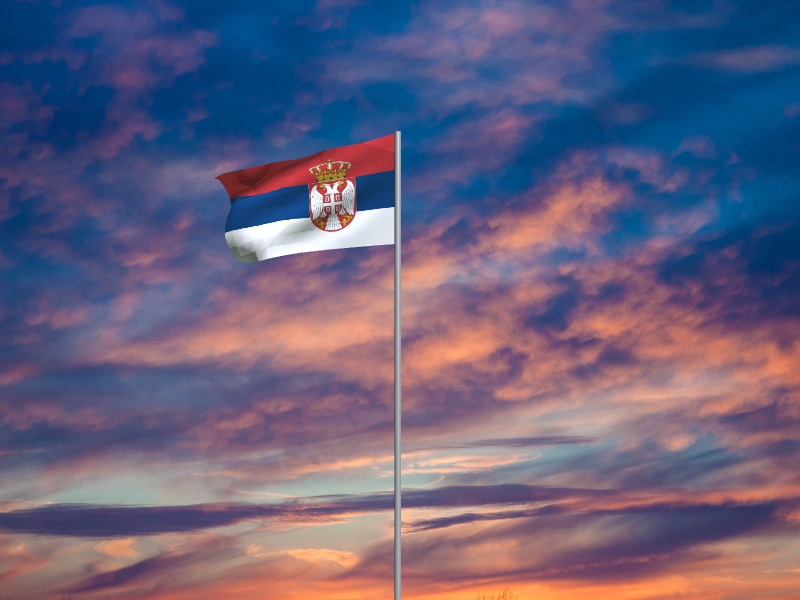rs: (214, 134, 395, 263)
